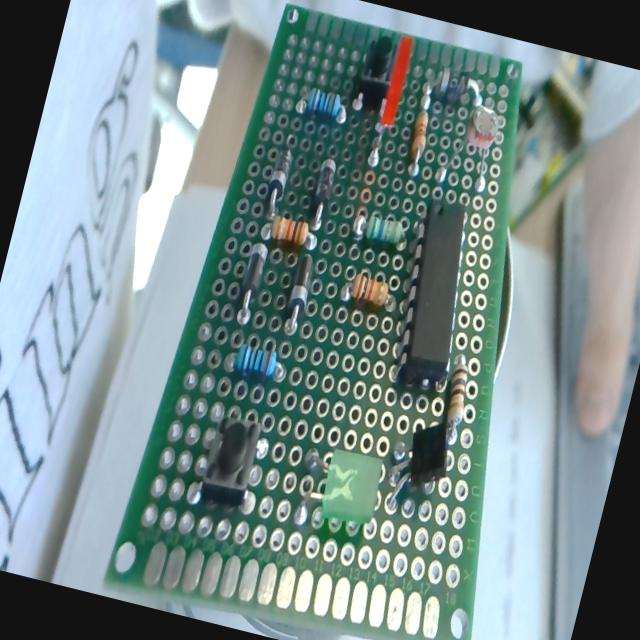IC: (384, 193, 488, 394)
cds: (446, 96, 505, 196)
diode: (280, 254, 317, 334), (234, 240, 270, 320), (426, 64, 479, 110), (306, 156, 338, 226), (262, 147, 294, 216)
led: (273, 434, 392, 554), (362, 37, 414, 172)
resistor: (432, 349, 480, 443), (340, 268, 392, 314), (350, 208, 406, 250), (230, 338, 280, 384), (404, 107, 434, 169), (302, 86, 348, 124), (268, 212, 312, 248)
switch: (195, 410, 264, 512), (351, 30, 401, 114)
transistor: (379, 413, 455, 518)
